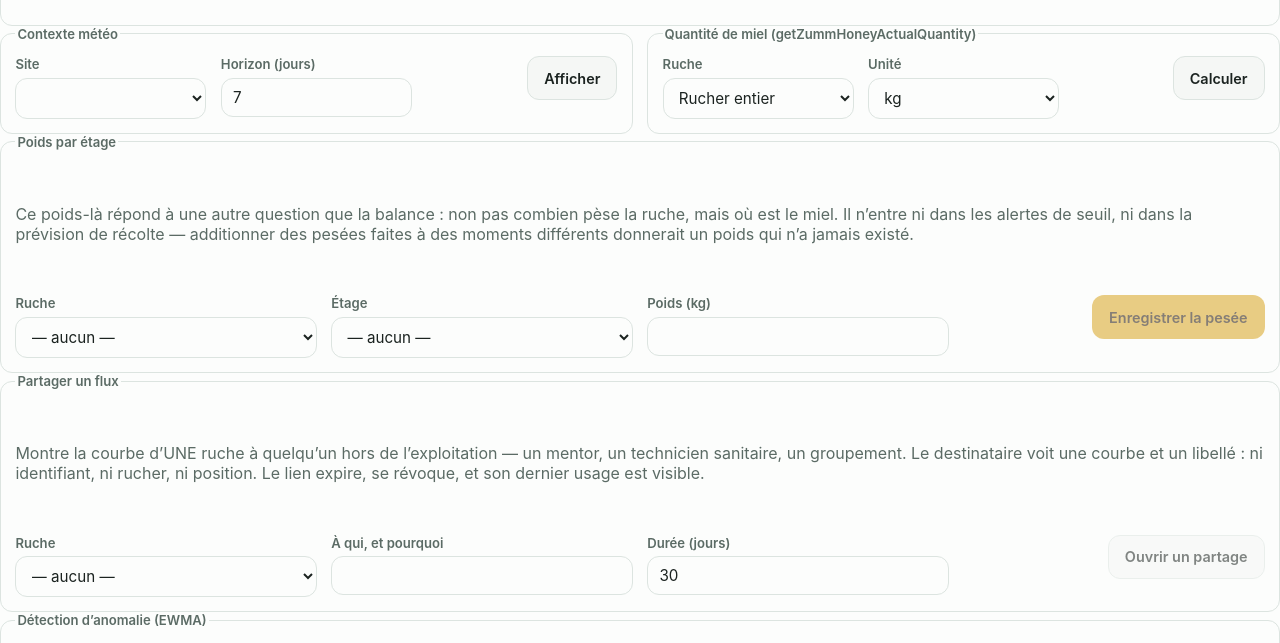
it: partage de flux › dit qu’un partage n’a jamais été consulté
(page scrolled)
Select "Dadant" in the dropdown labelled "Ruche" below "À qui, et pourquoi": (166, 576) [15, 556, 317, 597]
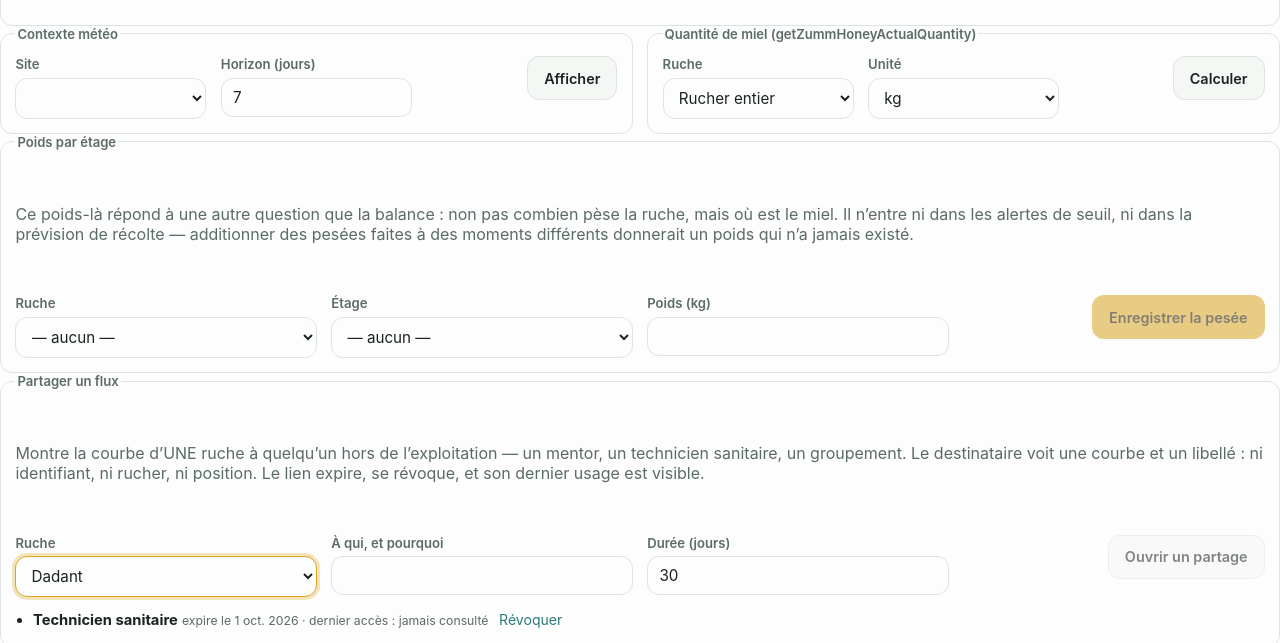
Expected: the text "expire le 1 oct. 2026 · dernier accès : jamais consulté" is shown, [182, 613, 489, 628]
